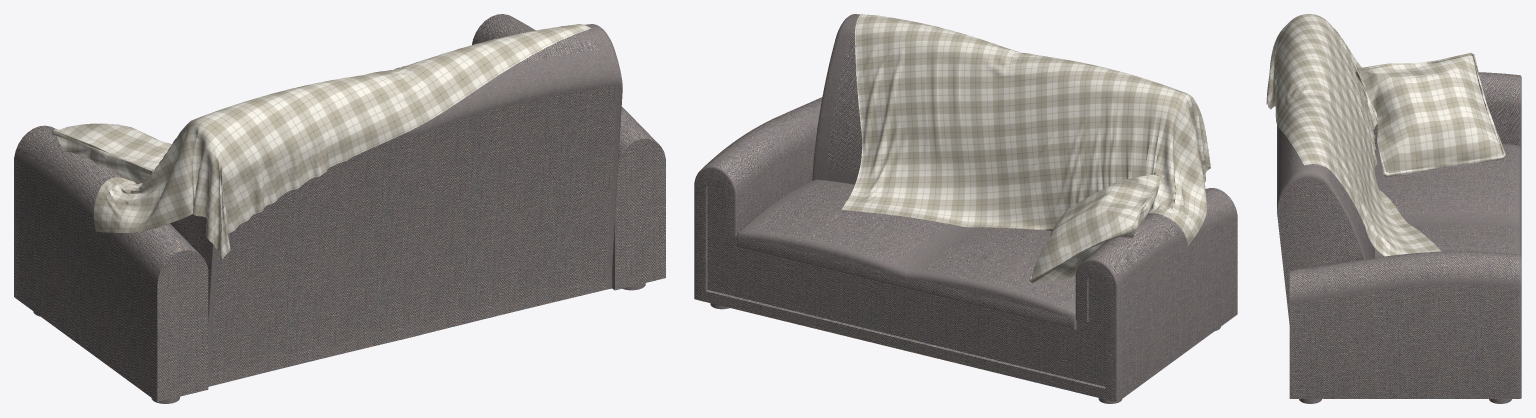
The model's file is sofa.glb.
3 views of the same model, side by side, from view 1: azimuth 30°, elevation 25°; view 2: azimuth 150°, elevation 25°; view 3: azimuth 270°, elevation 25° (orthographic). The views are drawn at different scales.
Visible parts, largest first — view 1: Material2.007, Material2.003, Material2.019, Material2.001, Material2.020, Material2.018, Material2.004; view 2: Material2.019, Material2.003, Material2.001, Material2.006, Material2.020, Material2.002, Material2.010, Material2.004, Material2.018, Material2.005; view 3: Material2.003, Material2.019, Material2.020, Material2.002, Material2.001, Material2.006, Material2.005, Material2.004.
Boxes of the visible parts, <box> form: Material2.007: <box>211,85,616,385</box>; Material2.003: <box>14,14,665,401</box>; Material2.019: <box>93,24,590,260</box>; Material2.001: <box>208,24,622,386</box>; Material2.020: <box>51,123,171,184</box>; Material2.018: <box>14,125,158,296</box>; Material2.004: <box>516,29,598,64</box>; Material2.019: <box>842,14,1210,245</box>; Material2.003: <box>695,97,1237,401</box>; Material2.001: <box>737,14,1150,329</box>; Material2.006: <box>753,183,948,264</box>; Material2.020: <box>1028,174,1164,283</box>; Material2.002: <box>923,227,1075,305</box>; Material2.010: <box>738,237,1072,327</box>; Material2.004: <box>827,20,862,173</box>; Material2.018: <box>1075,209,1237,401</box>; Material2.005: <box>694,165,736,298</box>; Material2.003: <box>1277,72,1521,398</box>; Material2.019: <box>1266,14,1441,256</box>; Material2.020: <box>1359,52,1505,177</box>; Material2.002: <box>1387,147,1515,215</box>; Material2.001: <box>1277,125,1521,259</box>; Material2.006: <box>1415,225,1515,253</box>; Material2.005: <box>1289,255,1521,398</box>; Material2.004: <box>1288,139,1373,258</box>.
Bounding box in the file's own units: 8.02 × 4.14 × 4.32.
5 materials, 3 textured.
